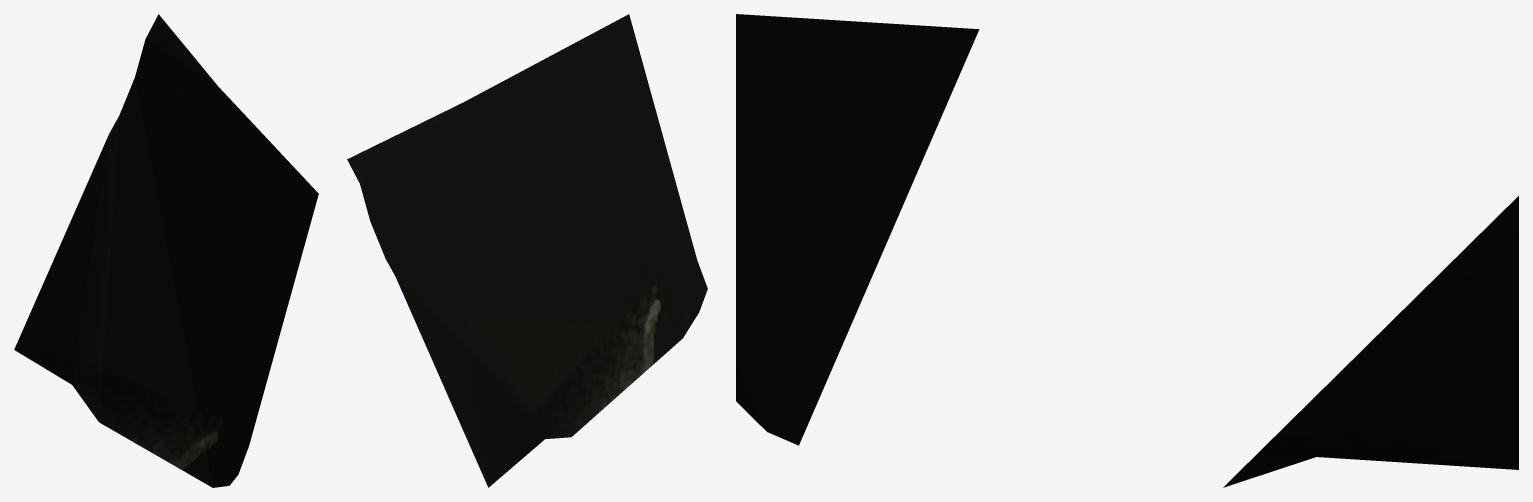
The picture shows the model from 3 angles, left to right: view 1: azimuth 30°, elevation 25°; view 2: azimuth 150°, elevation 25°; view 3: azimuth 270°, elevation 25°; orthographic projection. The views are drawn at different scales.
Size of the model in its own units: 2.19 by 4.51 by 5.9.
Materials: 2 (2 with a texture image).
